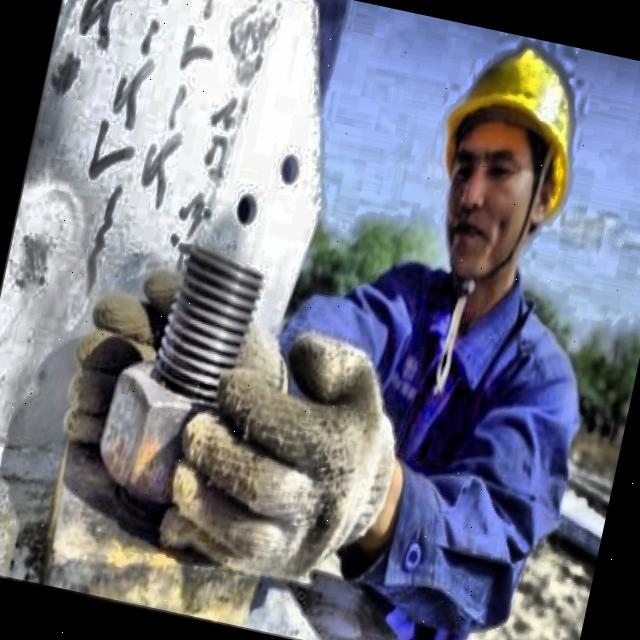helmet: (397, 20, 613, 312)
